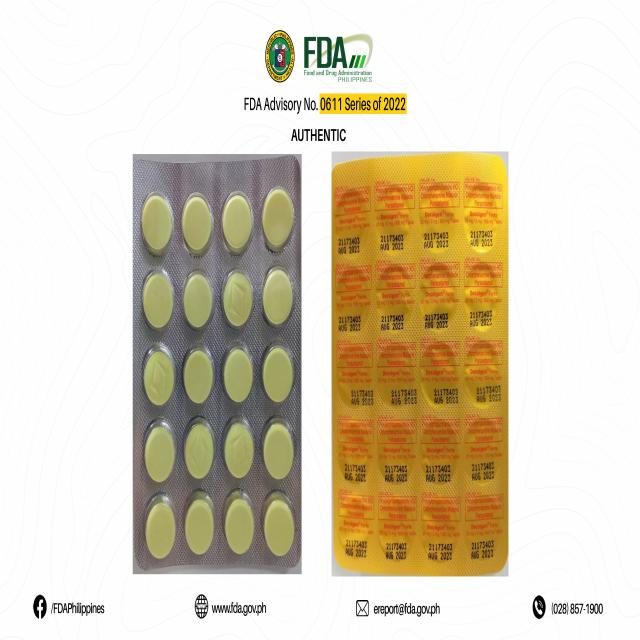authentic: (328, 147, 514, 578), (131, 150, 303, 574)
